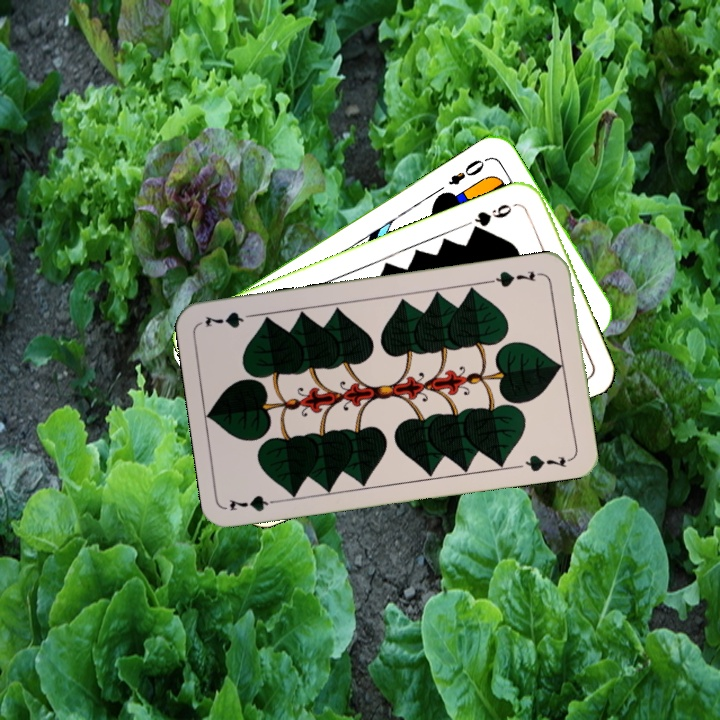EO: (445, 153, 492, 188)
G7: (487, 266, 546, 290), (225, 491, 285, 514)
G9: (467, 198, 521, 235)
